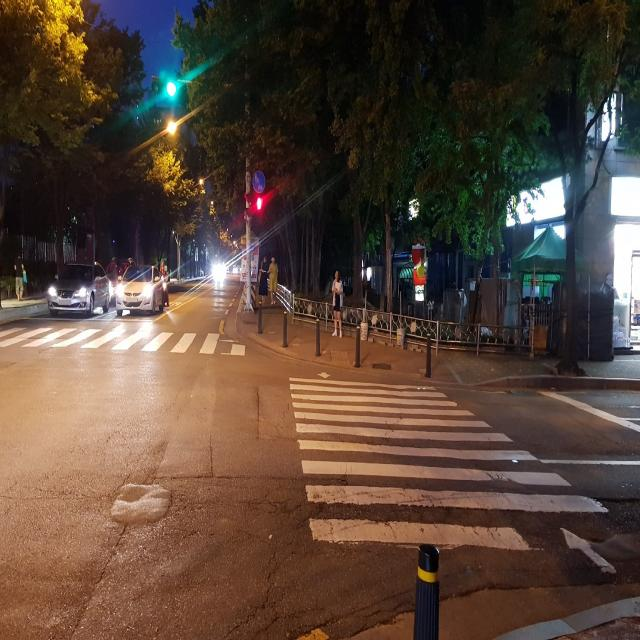빨간불: (255, 195, 264, 232)
횡단보도: (290, 371, 618, 576), (0, 320, 249, 356)
